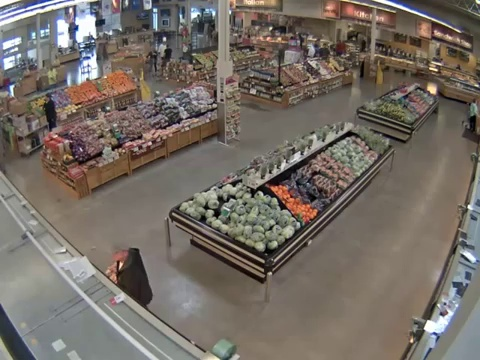face: (112, 247, 125, 263)
